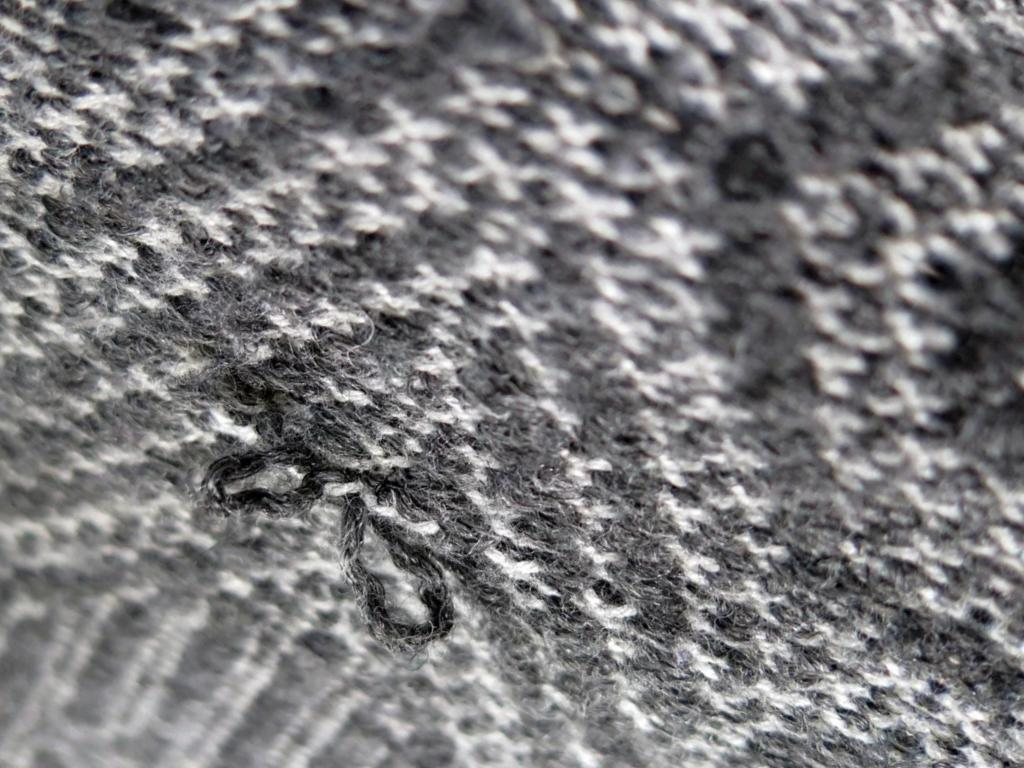snag: (339, 500, 461, 653), (186, 435, 332, 524)
